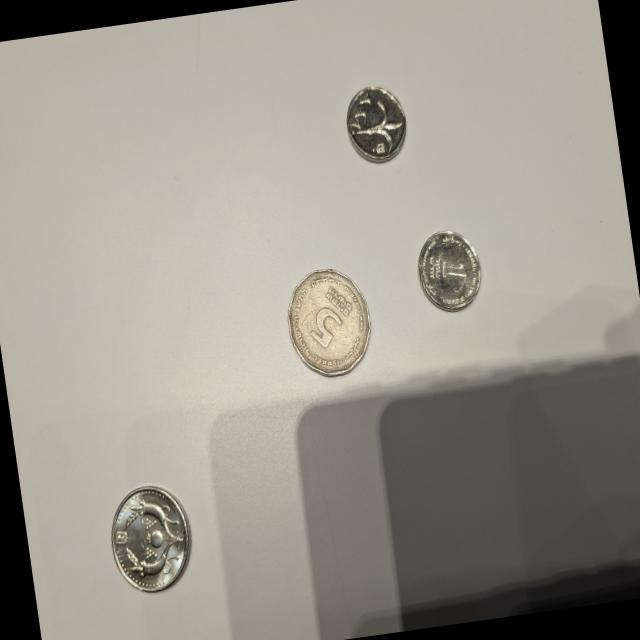1-shekel: (342, 83, 419, 177), (413, 224, 490, 314)
2-shekel: (106, 480, 202, 600)
5-shekel: (282, 263, 379, 383)
